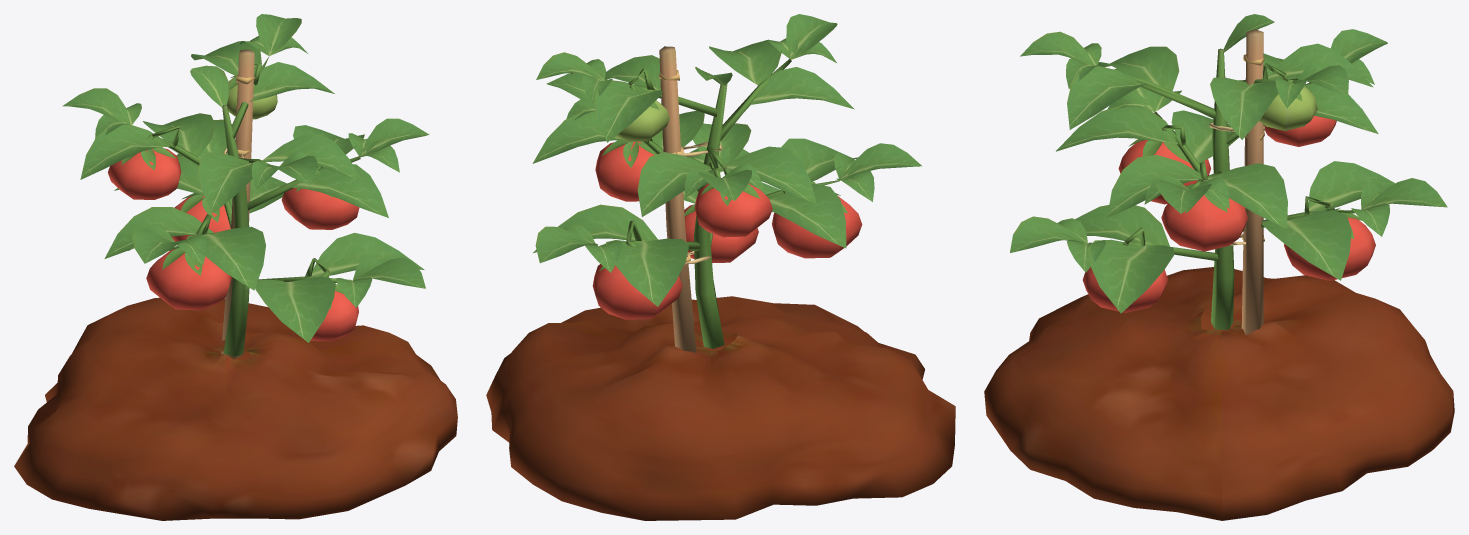
3 renders of one model, left to right at view 1: azimuth 30°, elevation 25°; view 2: azimuth 150°, elevation 25°; view 3: azimuth 270°, elevation 25°, orthographic. The views are drawn at different scales.
Visible parts, largest first — view 1: tomato-ready; view 2: tomato-ready; view 3: tomato-ready.
Boxes of the visible parts, box(x1,y1,x2,y2) form: tomato-ready: box(14, 14, 457, 520); tomato-ready: box(486, 14, 955, 520); tomato-ready: box(984, 14, 1454, 520).
Bounding box in the file's own units: 0.7926 × 0.675 × 0.7248.
Materials: 1 (1 with a texture image).
